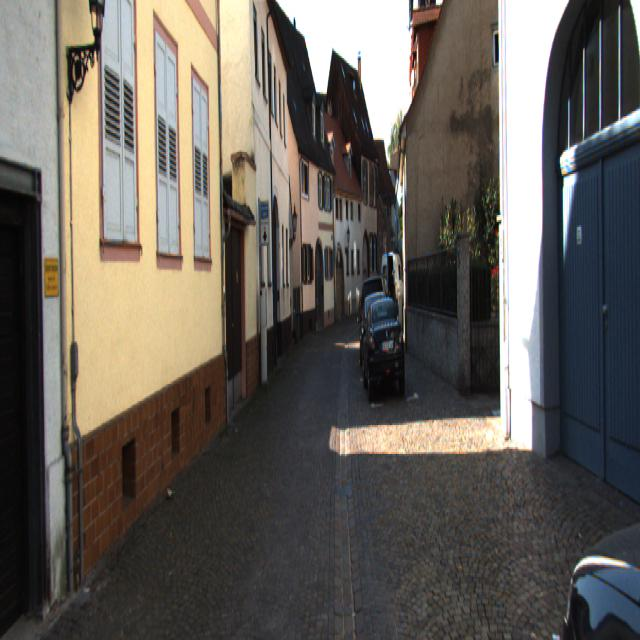Car: (552, 294, 640, 638), (361, 297, 406, 403), (382, 252, 406, 316)
